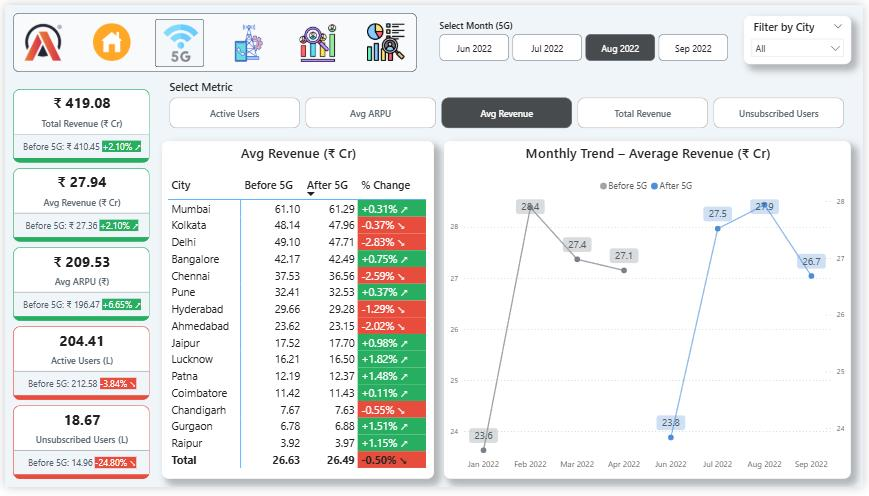

Layout of this report page (visuals, bound fields, positions):
{"tool":"powerbi","page":{"name":"5G Impact Analysis","canvas":[1280,720],"ordinal":1},"visuals":[{"type":"shape","box":[11.9,11.9,603,88.1],"z":0,"group":"g1"},{"type":"cardVisual","fields":{"Data":["Key_Measures.Total Revenue - Current (Cr)","Key_Measures.Average Revenue - Current (Cr)","Key_Measures.Average ARPU - Current","Key_Measures.Active Users After 5G (L)","Key_Measures.Unsubscribed Users - Current (L)"]},"box":[11.8,125,204.4,582.4],"z":0},{"type":"advancedSlicerVisual","title":"Select Month (5G)","fields":{"Values":["dim_date.After5GMonth"]},"box":[639.7,16.2,450,72.1],"z":1000},{"type":"image","box":[23.8,22.3,67.2,65.7],"z":1000,"group":"g1"},{"type":"slicer","title":"City","fields":{"Values":["dim_cities.city_name"]},"box":[1102.9,16.2,160.3,72.1],"z":2000},{"type":"image","box":[125.9,22.9,67.2,65.7],"z":2000,"group":"g1"},{"type":"image","box":[228,23.2,67.2,65.7],"z":3000,"group":"g1"},{"type":"advancedSlicerVisual","title":"Select Metric","fields":{"Values":["Metric Selector.Metric"]},"box":[236.8,111.8,1026.5,80.9],"z":3000},{"type":"image","box":[330.1,23.5,67.2,65.7],"z":4000,"group":"g1"},{"type":"pivotTable","fields":{"Rows":["dim_cities.city_name"],"Values":["Key_Measures.Matrix - Before 5G","Key_Measures.Matrix - After 5G","Key_Measures.Matrix - % Change"]},"box":[233.8,202.9,405.9,504.4],"z":4000},{"type":"image","box":[432.2,23.8,67.2,65.7],"z":5000,"group":"g1"},{"type":"lineChart","fields":{"Category":["dim_date.Month Year"],"Y":["Key_Measures.Trend - Before 5G"],"Y2":["Key_Measures.Trend - After 5G"]},"box":[655.9,202.9,607.4,504.4],"z":5000},{"type":"group","id":"g1","title":"Navigation Pane Group","box":[11.9,11.9,603,88.1],"z":6000},{"type":"image","box":[534.3,22.6,67.2,65.7],"z":6000,"group":"g1"},{"type":"shape","box":[223.8,20.9,73.1,71.6],"z":7000,"group":"g1"},{"type":"actionButton","box":[329.8,23.8,67.2,65.7],"z":8000,"group":"g1"},{"type":"actionButton","box":[431.3,23.8,67.2,65.7],"z":9000,"group":"g1"},{"type":"actionButton","box":[534.3,23.8,67.2,65.7],"z":10000,"group":"g1"},{"type":"actionButton","box":[125.3,22.3,67.2,65.7],"z":11000,"group":"g1"}]}

Visuals, with their boxes in screenshot pixels (x1, y1, x2, y2), scaled from the page's 1280x720 canvas onto the 869x496 screenshot:
shape: BBox(8, 8, 417, 69)
cardVisual - Key_Measures.Total Revenue - Current (Cr) x Key_Measures.Average Revenue - Current (Cr): BBox(8, 86, 147, 487)
"Select Month (5G)" advancedSlicerVisual: BBox(434, 11, 740, 61)
image: BBox(16, 15, 62, 61)
"City" slicer: BBox(749, 11, 858, 61)
image: BBox(85, 16, 131, 61)
image: BBox(155, 16, 200, 61)
"Select Metric" advancedSlicerVisual: BBox(161, 77, 858, 133)
image: BBox(224, 16, 270, 61)
pivotTable - dim_cities.city_name x Key_Measures.Matrix - Before 5G: BBox(159, 140, 434, 487)
image: BBox(293, 16, 339, 62)
lineChart - dim_date.Month Year x Key_Measures.Trend - Before 5G: BBox(445, 140, 858, 487)
"Navigation Pane Group" group: BBox(8, 8, 417, 69)
image: BBox(363, 16, 408, 61)
shape: BBox(152, 14, 202, 64)
actionButton: BBox(224, 16, 270, 62)
actionButton: BBox(293, 16, 338, 62)
actionButton: BBox(363, 16, 408, 62)
actionButton: BBox(85, 15, 131, 61)
